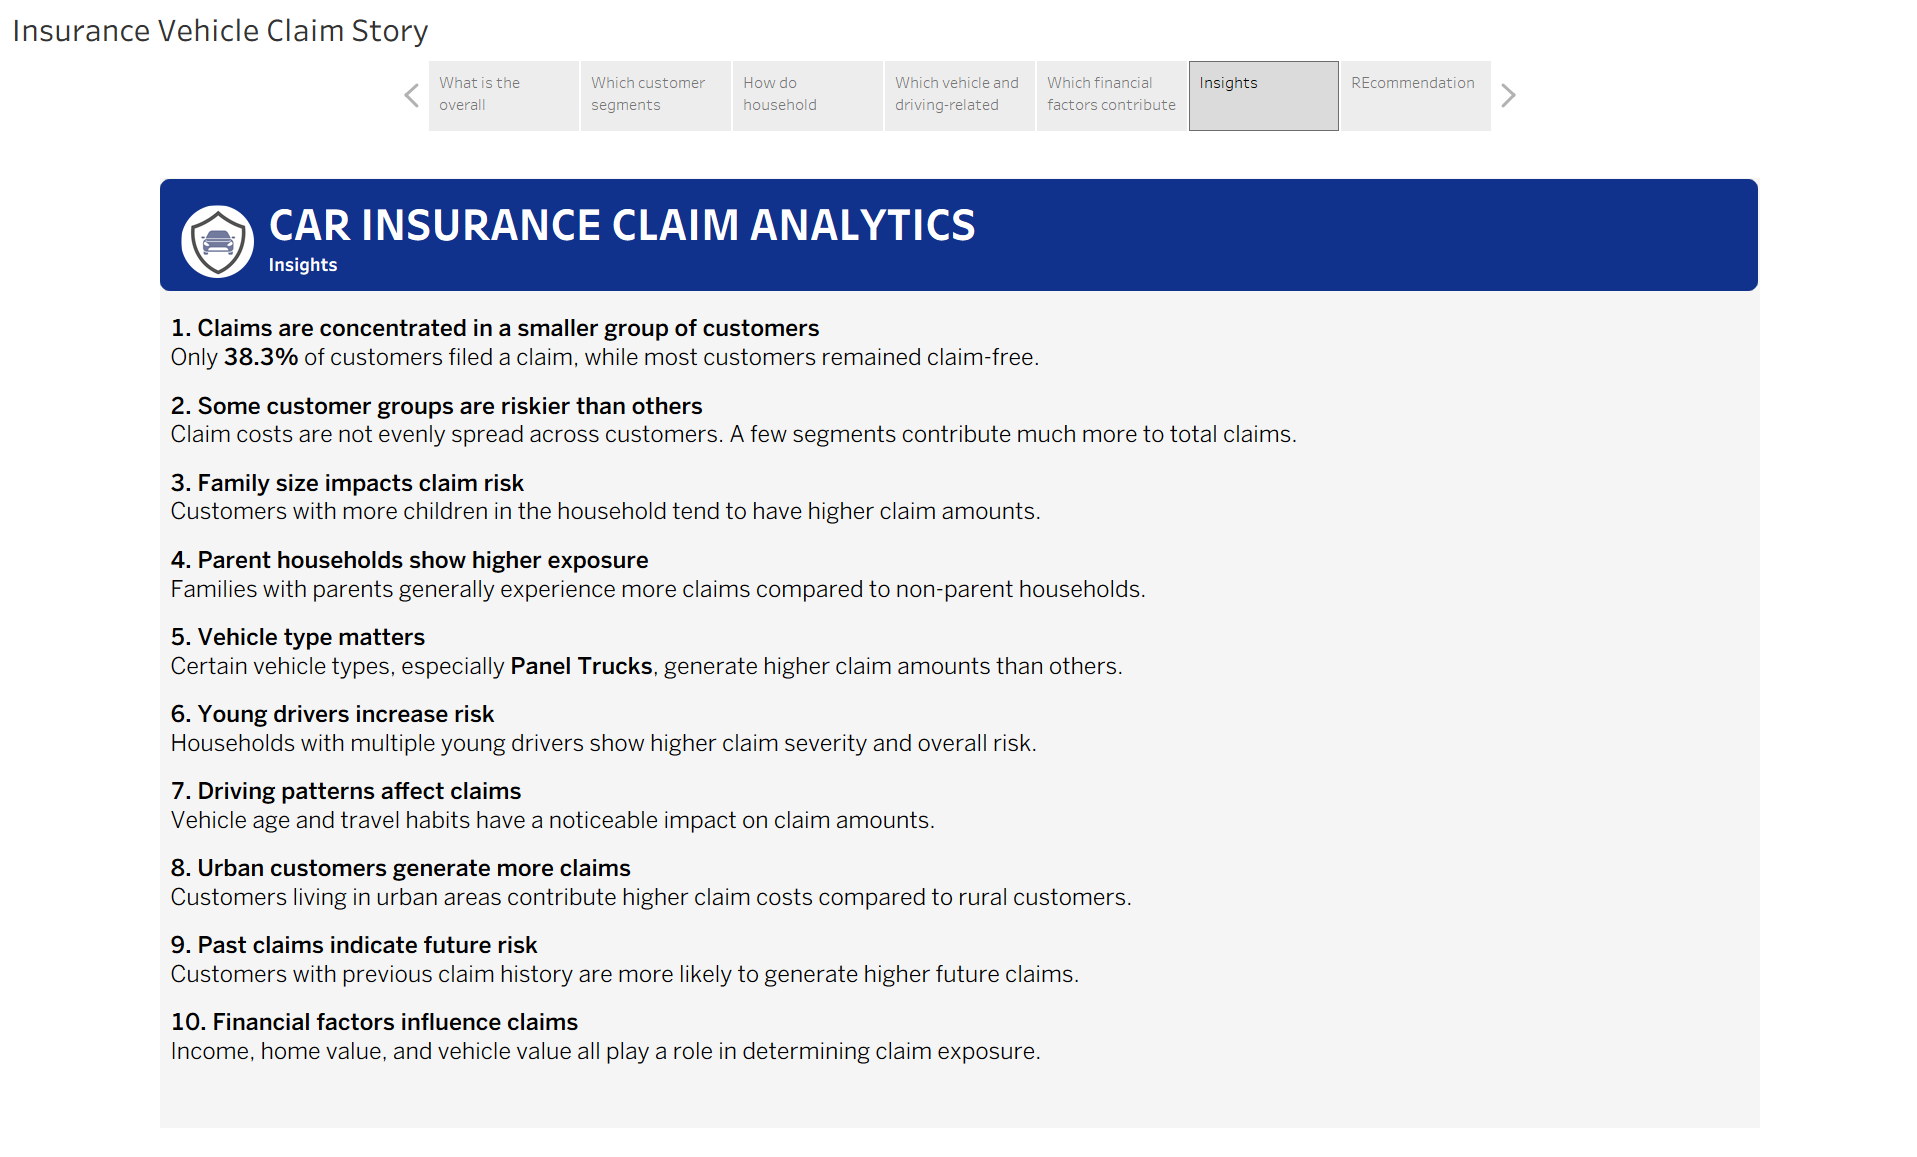

Layout of this report page (visuals, bound fields, positions):
{"tool":"tableau","page":{"name":"Insights","canvas":[1600,950],"ordinal":4},"visuals":[{"type":"text","box":[105,4,1075,105]},{"type":"image","param":"C:/Users/Abhi/Downloads/car-protection-shield-icon-vector-22266842.jpg","box":[17,23,81,81]}]}

Visuals, with their boxes on the page's 1600x950 design canvas (x1, y1, x2, y2). These are canvas units, not pixel positions in the 1917x1157 screenshot, which may show the page scaled, cropped or inside an application window:
text: x1=105, y1=4, x2=1180, y2=109
image: x1=17, y1=23, x2=98, y2=104
